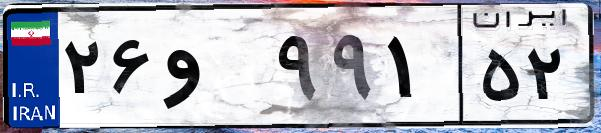1: (385, 28, 445, 110)
2: (57, 26, 110, 100), (525, 38, 570, 115)
5: (475, 38, 525, 113)
6: (110, 28, 158, 98)
9: (270, 28, 330, 110), (330, 28, 385, 110)
و: (158, 20, 270, 120)
